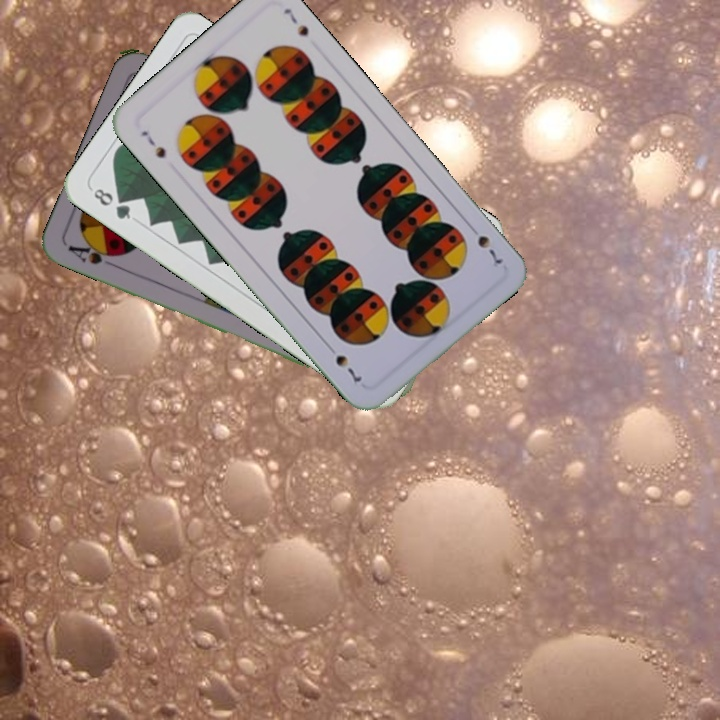G8: (89, 184, 134, 222)
S7: (464, 220, 505, 269), (137, 126, 168, 161)
SA: (64, 237, 124, 271)
